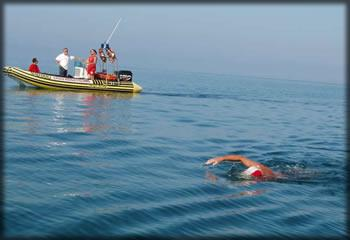human: (204, 154, 288, 181)
